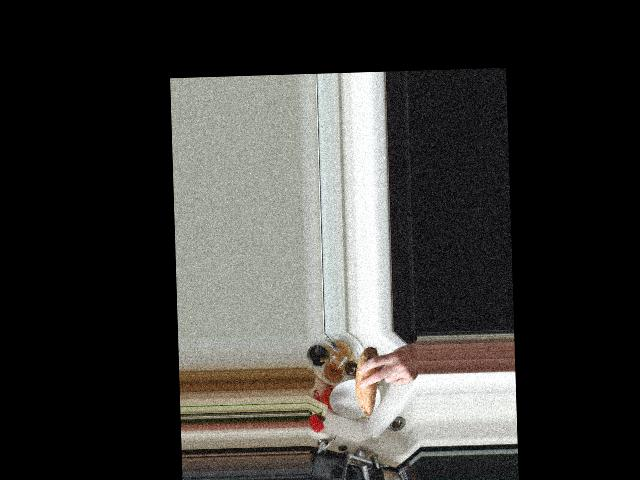sweet_potato: (354, 344, 384, 423)
